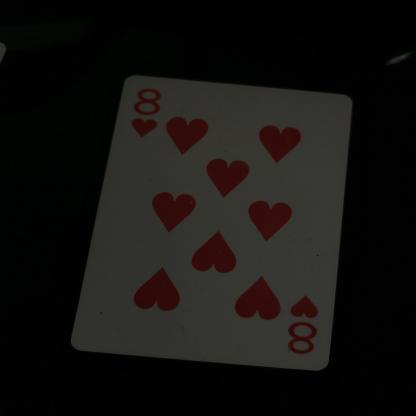8H: (274, 292, 338, 362), (122, 84, 177, 138)
